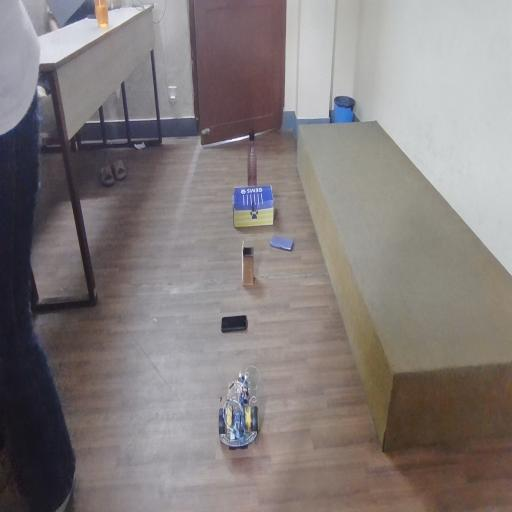Bottle: (239, 112, 259, 182)
car: (214, 374, 274, 467)
